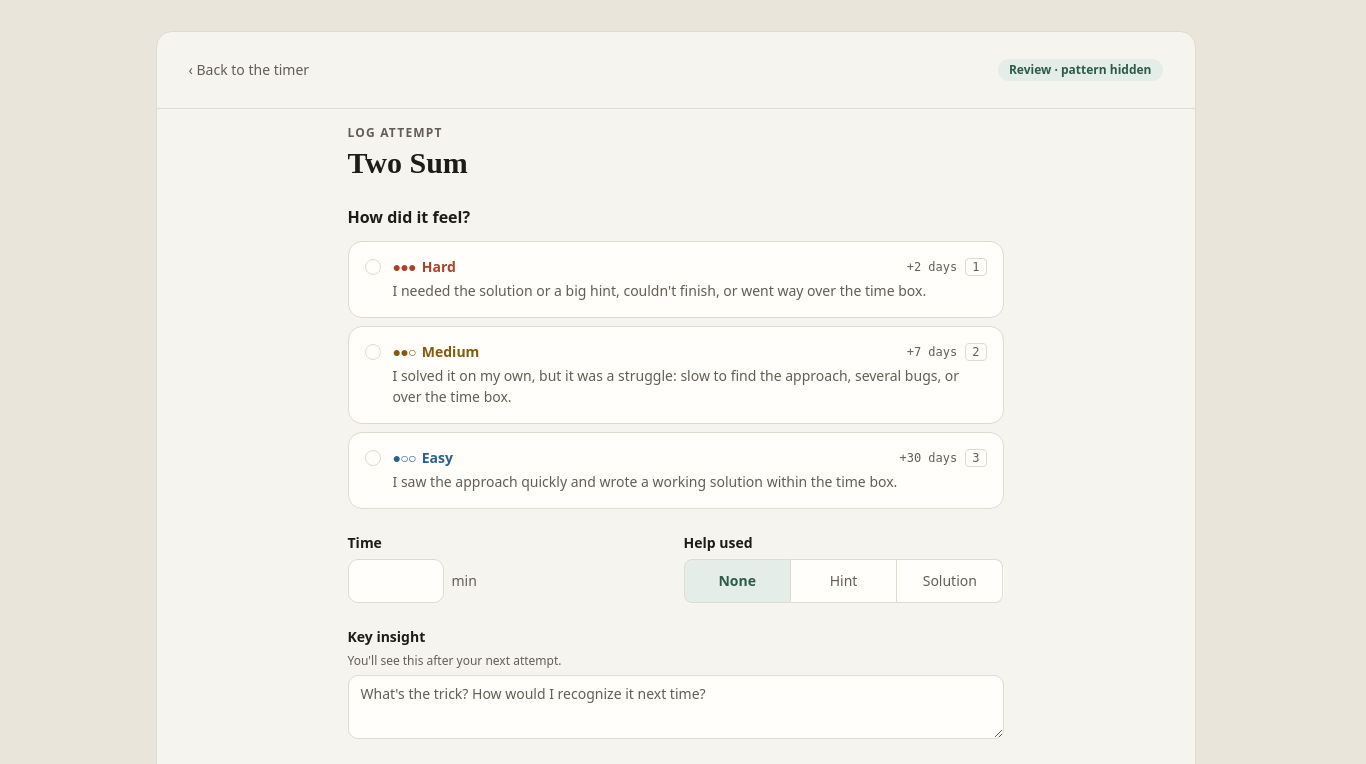
LogPage saving › says Mastered! after Easy on a due review that followed an Easy
Click the radio button named "Easy" next to "Easy". click: [372, 458]
box: [364,450,380,466]
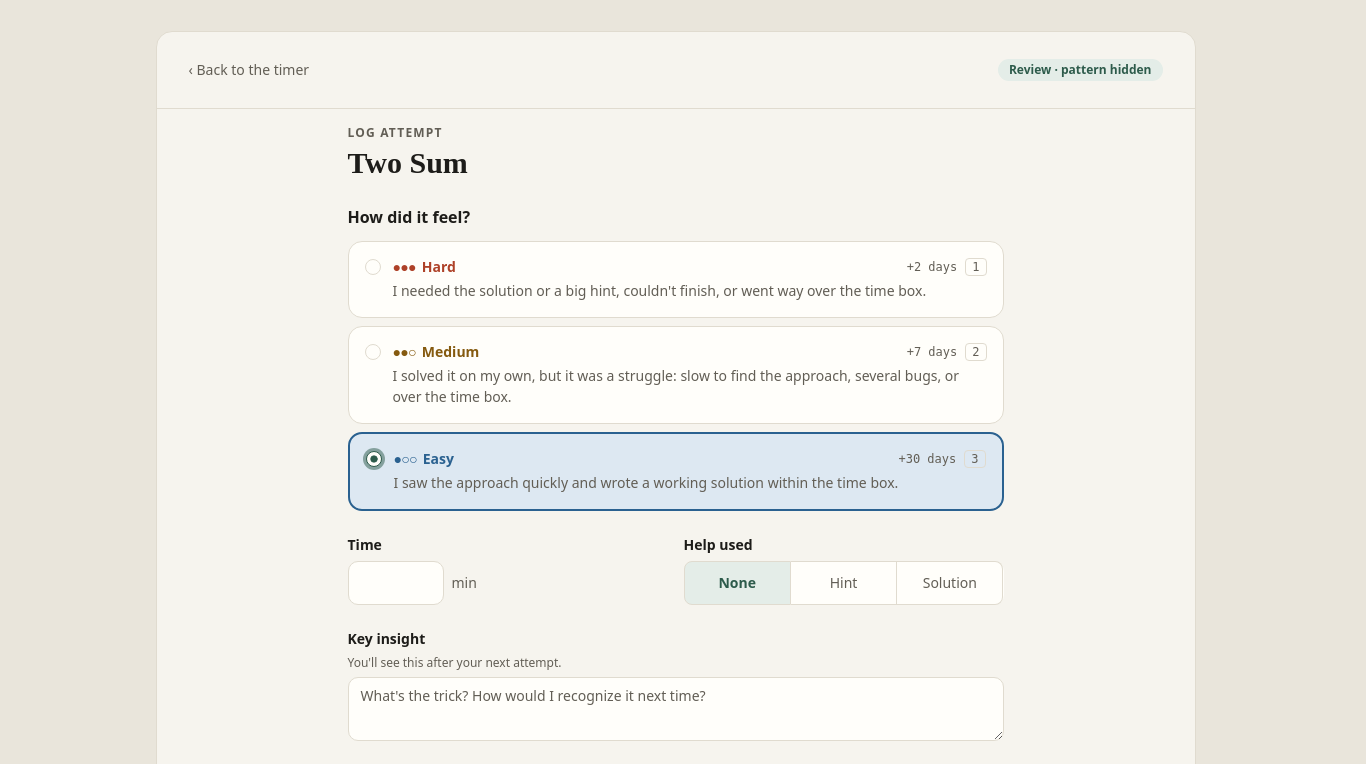
Type "10" into the number field labelled "Time". click: [396, 583]
box: [348,561,444,605]
(page scrolled)
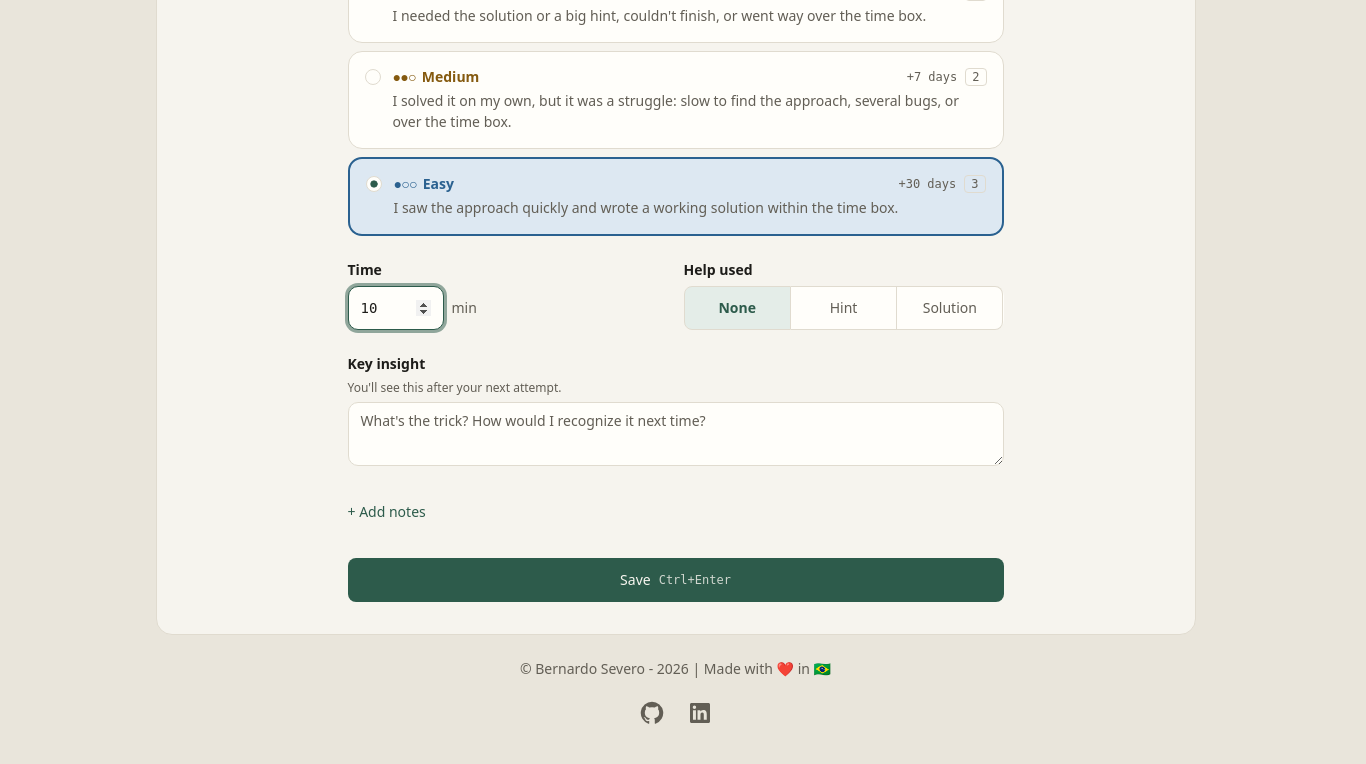
Click the button "Save Ctrl+Enter". click: [676, 580]
box: [348,558,1004,602]
(page scrolled)
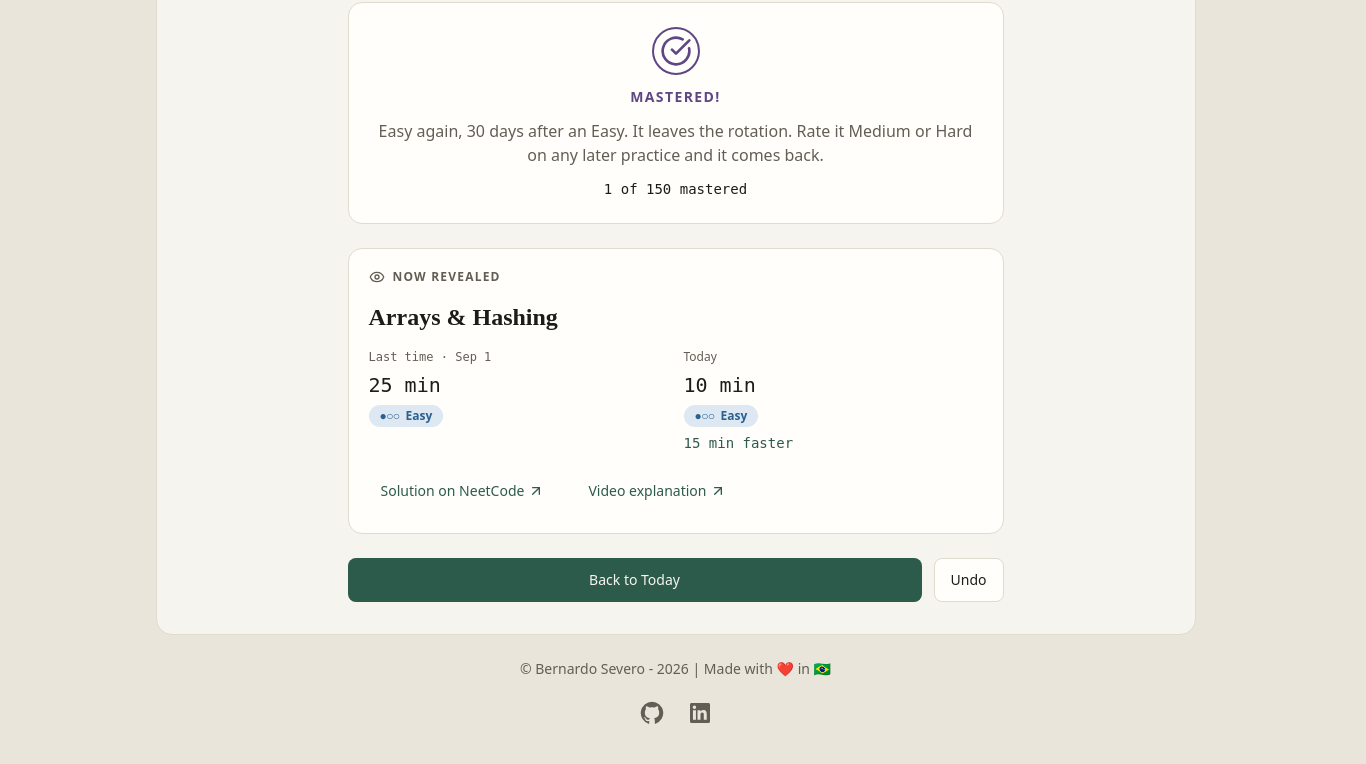
Now the text "Mastered!" is shown, box [630,87,721,107]
Now the text "1 of 150 mastered" is shown, box [604,179,747,199]
